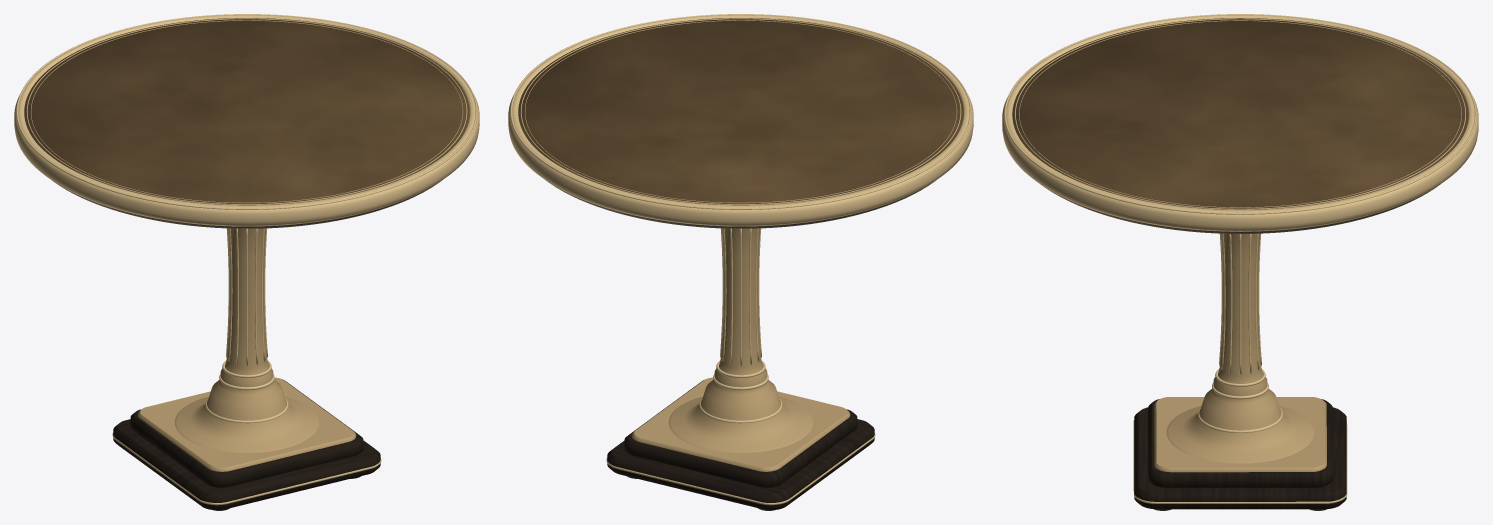
File: lounge_round_table.glb
3 renders of one model, left to right at view 1: azimuth 30°, elevation 25°; view 2: azimuth 150°, elevation 25°; view 3: azimuth 270°, elevation 25°, orthographic. The views are drawn at different scales.
Visible parts, largest first — view 1: RoundTable__Tabletop_SmokedBronze_Inset, RoundTable__Tabletop_AntiqueBrass_Rim, RoundTable__Pedestal_Turned_Bronze, RoundTable__Foot_Ebonised_Stepped_Plinth, RoundTable__Tabletop_Concentric_Gold_Inlay, RoundTable__Foot_Upper_Bronze_Step, RoundTable__Pedestal_Twelve_Flutes, RoundTable__Tabletop_DarkCore, RoundTable__Foot_Brass_Edge, RoundTable__Pedestal_Polished_Collars; view 2: RoundTable__Tabletop_SmokedBronze_Inset, RoundTable__Tabletop_AntiqueBrass_Rim, RoundTable__Pedestal_Turned_Bronze, RoundTable__Foot_Ebonised_Stepped_Plinth, RoundTable__Tabletop_Concentric_Gold_Inlay, RoundTable__Foot_Upper_Bronze_Step, RoundTable__Pedestal_Twelve_Flutes, RoundTable__Tabletop_DarkCore, RoundTable__Foot_Brass_Edge, RoundTable__Pedestal_Polished_Collars; view 3: RoundTable__Tabletop_SmokedBronze_Inset, RoundTable__Pedestal_Turned_Bronze, RoundTable__Tabletop_AntiqueBrass_Rim, RoundTable__Foot_Ebonised_Stepped_Plinth, RoundTable__Tabletop_Concentric_Gold_Inlay, RoundTable__Foot_Upper_Bronze_Step, RoundTable__Pedestal_Twelve_Flutes, RoundTable__Tabletop_DarkCore, RoundTable__Foot_Brass_Edge, RoundTable__Pedestal_Polished_Collars.
Part boxes in pixels (x1,y1,x2,y2): RoundTable__Tabletop_SmokedBronze_Inset: (24, 18, 469, 205); RoundTable__Tabletop_AntiqueBrass_Rim: (14, 15, 479, 226); RoundTable__Pedestal_Turned_Bronze: (174, 228, 319, 452); RoundTable__Foot_Ebonised_Stepped_Plinth: (113, 380, 380, 510); RoundTable__Tabletop_Concentric_Gold_Inlay: (16, 14, 477, 226); RoundTable__Foot_Upper_Bronze_Step: (137, 377, 356, 471); RoundTable__Pedestal_Twelve_Flutes: (226, 228, 267, 365); RoundTable__Tabletop_DarkCore: (53, 181, 440, 228); RoundTable__Foot_Brass_Edge: (112, 433, 381, 505); RoundTable__Pedestal_Polished_Collars: (205, 361, 288, 423); RoundTable__Tabletop_SmokedBronze_Inset: (518, 18, 963, 205); RoundTable__Tabletop_AntiqueBrass_Rim: (508, 15, 973, 226); RoundTable__Pedestal_Turned_Bronze: (668, 228, 813, 452); RoundTable__Foot_Ebonised_Stepped_Plinth: (607, 380, 874, 510); RoundTable__Tabletop_Concentric_Gold_Inlay: (510, 14, 971, 226); RoundTable__Foot_Upper_Bronze_Step: (631, 377, 850, 471); RoundTable__Pedestal_Twelve_Flutes: (720, 228, 761, 365); RoundTable__Tabletop_DarkCore: (547, 181, 934, 228); RoundTable__Foot_Brass_Edge: (606, 433, 875, 505); RoundTable__Pedestal_Polished_Collars: (699, 361, 782, 423); RoundTable__Tabletop_SmokedBronze_Inset: (1012, 18, 1468, 209); RoundTable__Pedestal_Turned_Bronze: (1166, 233, 1314, 463); RoundTable__Tabletop_AntiqueBrass_Rim: (1002, 15, 1478, 231); RoundTable__Foot_Ebonised_Stepped_Plinth: (1134, 399, 1346, 509); RoundTable__Tabletop_Concentric_Gold_Inlay: (1004, 14, 1476, 231); RoundTable__Foot_Upper_Bronze_Step: (1154, 397, 1326, 472); RoundTable__Pedestal_Twelve_Flutes: (1219, 233, 1261, 374); RoundTable__Tabletop_DarkCore: (1040, 184, 1440, 233); RoundTable__Foot_Brass_Edge: (1133, 420, 1347, 503); RoundTable__Pedestal_Polished_Collars: (1198, 369, 1282, 432).
Bounding box in the file's own units: 0.78 × 0.65 × 0.78.
Materials: 6 (2 with a texture image).
